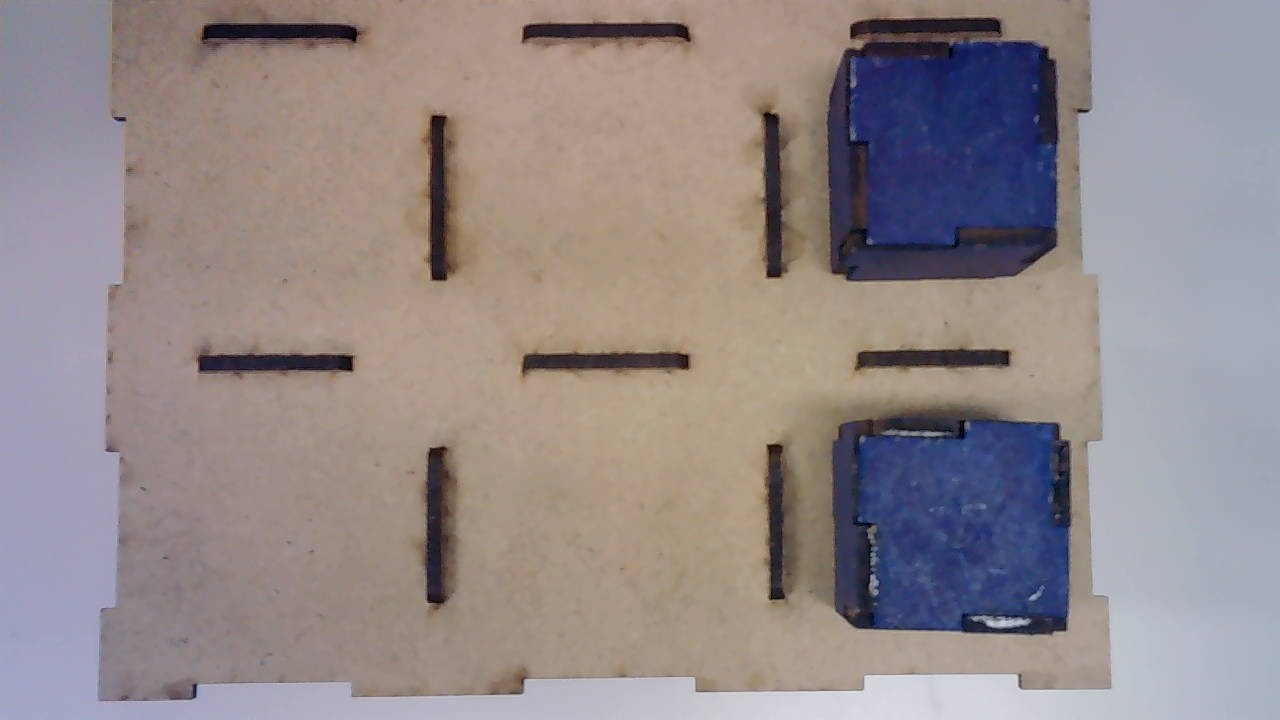blue box: (828, 39, 1059, 283), (833, 419, 1072, 635)
